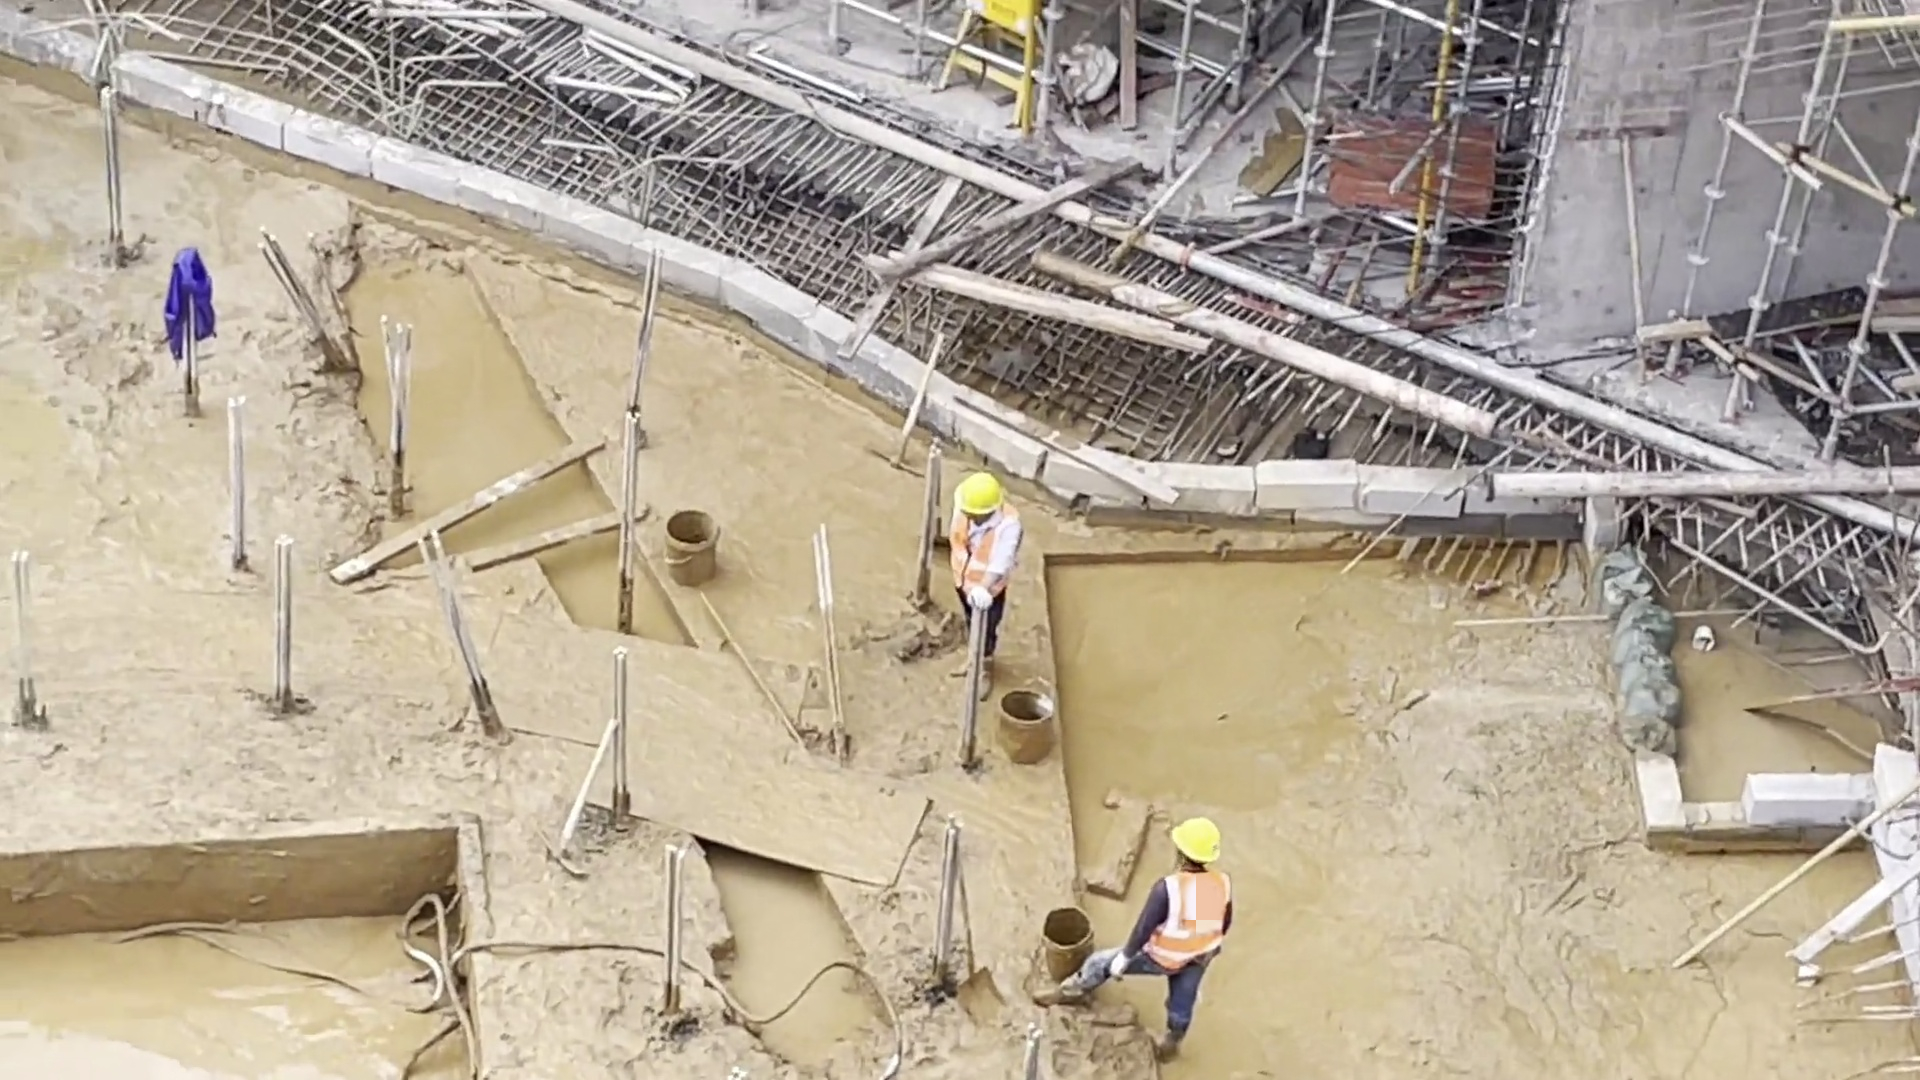ebox: (959, 1, 1059, 50)
helmet: (1166, 816, 1230, 869), (955, 471, 1006, 517)
person: (1033, 815, 1247, 1048), (940, 467, 1029, 680)
vest: (1147, 865, 1234, 976), (943, 508, 1025, 619)
